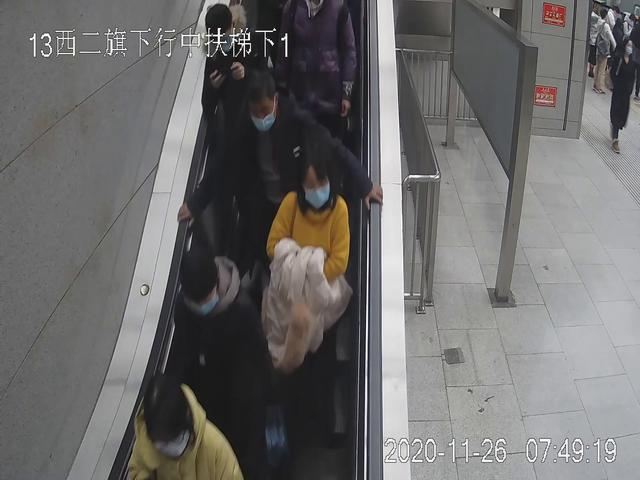person: (217, 78, 350, 385), (265, 159, 347, 457), (200, 5, 280, 303), (167, 248, 268, 480), (277, 2, 358, 222), (123, 378, 240, 480), (607, 35, 632, 158), (590, 6, 616, 93)
